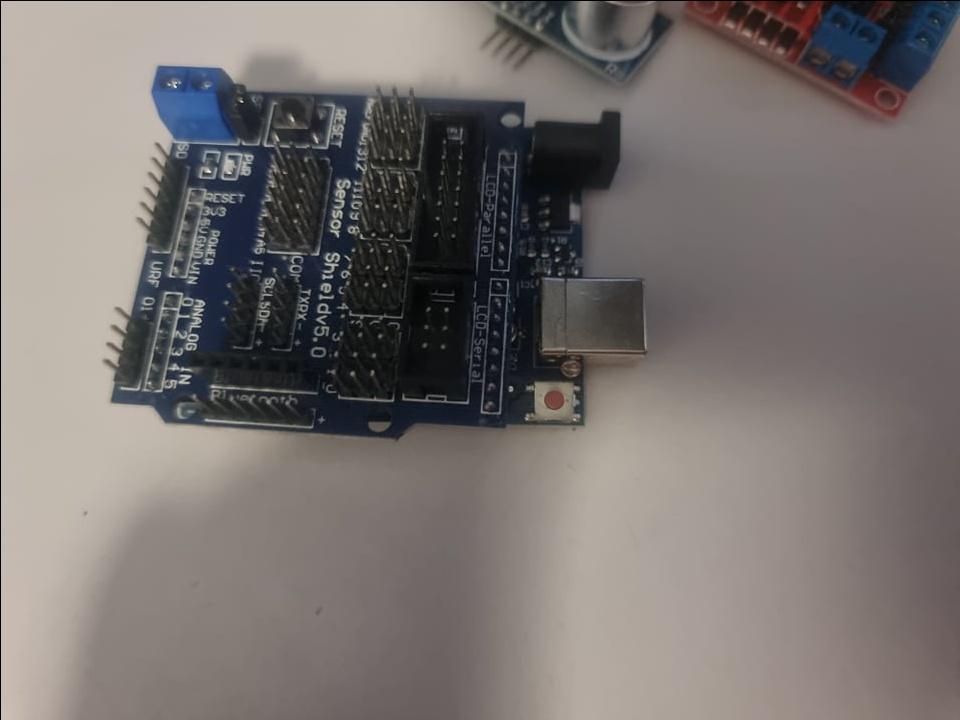UNO R3: (100, 52, 669, 437)
